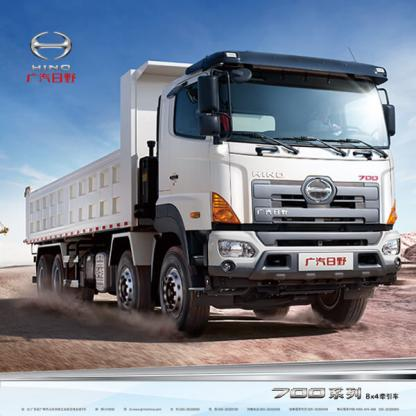dump_truck: (20, 34, 416, 331)
